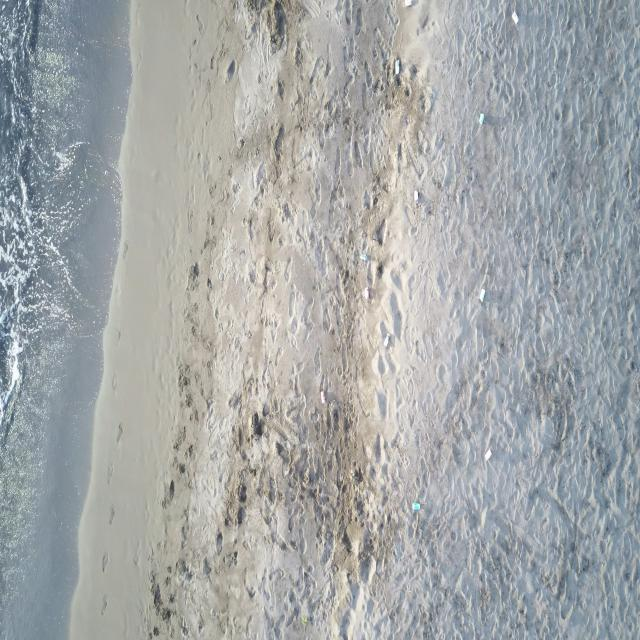tin-and-aluminum-cans: (383, 332, 391, 348), (483, 448, 492, 461), (511, 11, 519, 25), (479, 288, 486, 303), (363, 286, 370, 301), (320, 391, 326, 405), (395, 59, 400, 75), (414, 189, 419, 204), (412, 502, 420, 511), (478, 113, 484, 125), (404, 0, 412, 9), (360, 254, 368, 262)
